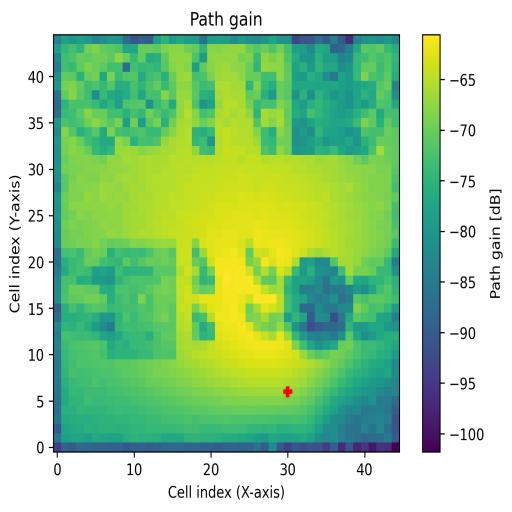Concrete: (292, 44, 384, 155)
Glass: (85, 53, 176, 155)
Metal: (284, 256, 376, 349)
Wood: (92, 238, 177, 358)
